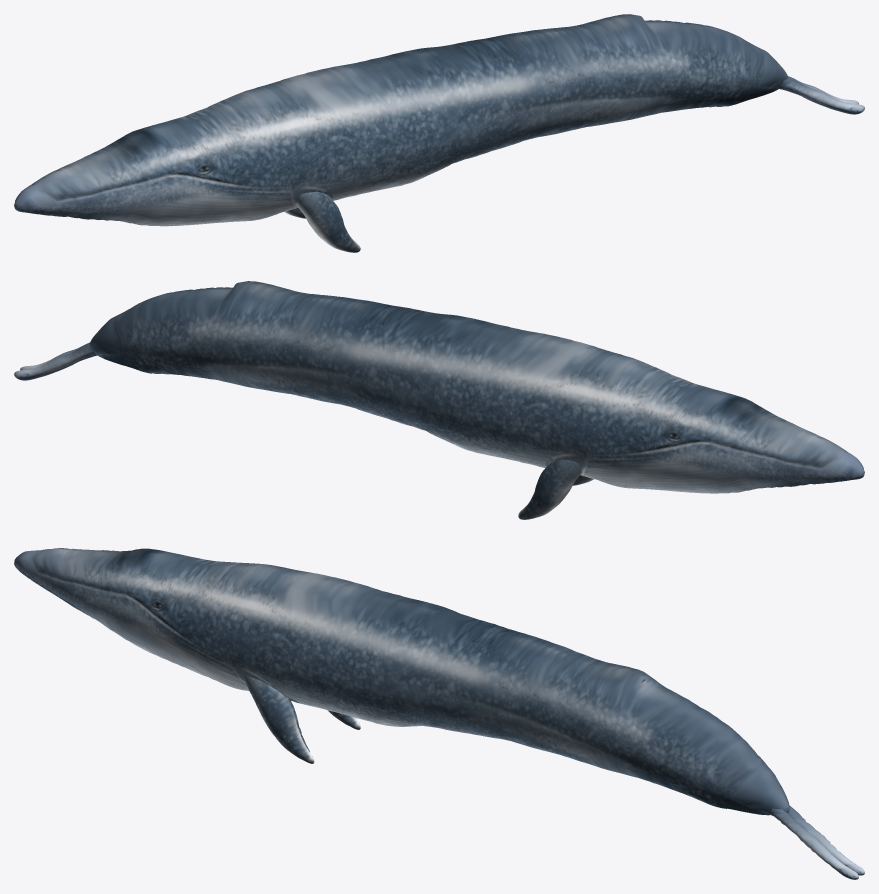
The model's file is blue-whale.glb.
The picture shows the model from 3 angles, top to bottom: view 1: azimuth 30°, elevation 25°; view 2: azimuth 150°, elevation 25°; view 3: azimuth 330°, elevation 25°; orthographic projection.
Visible parts, largest first — view 1: mm_frame (15); view 2: mm_frame (15); view 3: mm_frame (15).
Part boxes in pixels (x1,y1,x2,y2): mm_frame (15): [14, 14, 864, 252]; mm_frame (15): [14, 281, 864, 519]; mm_frame (15): [14, 548, 864, 879].
Size of the model in its own units: 8.04 by 1.49 by 1.06.
1 material, 1 textured.
